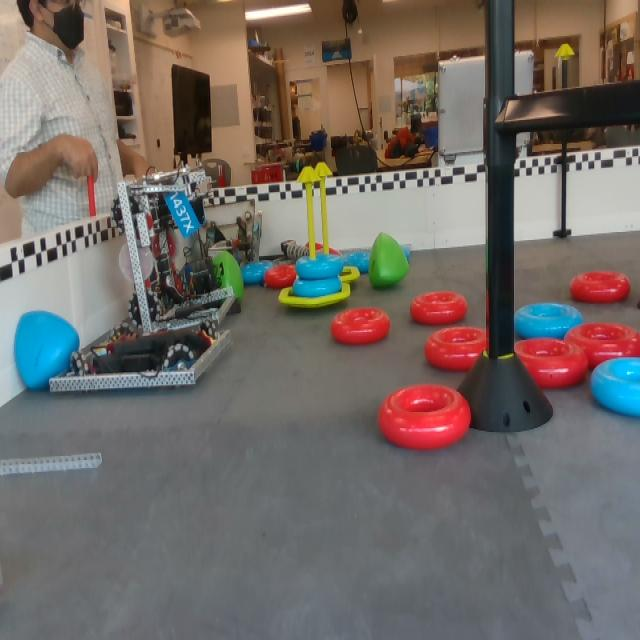Blue-Ring: (592, 356, 639, 418), (514, 303, 584, 338), (295, 255, 345, 281), (291, 278, 341, 297), (238, 260, 272, 287), (338, 250, 372, 273)
Mobile-Goal: (277, 167, 352, 311), (315, 162, 363, 284)
Red-Ring: (376, 385, 472, 453), (514, 339, 588, 388), (565, 323, 639, 365), (425, 327, 487, 373), (331, 309, 389, 347), (410, 291, 468, 329), (569, 272, 630, 302), (263, 264, 300, 287)
Yellow-Stake-Head: (296, 167, 322, 183), (554, 44, 576, 58), (314, 162, 333, 177)
